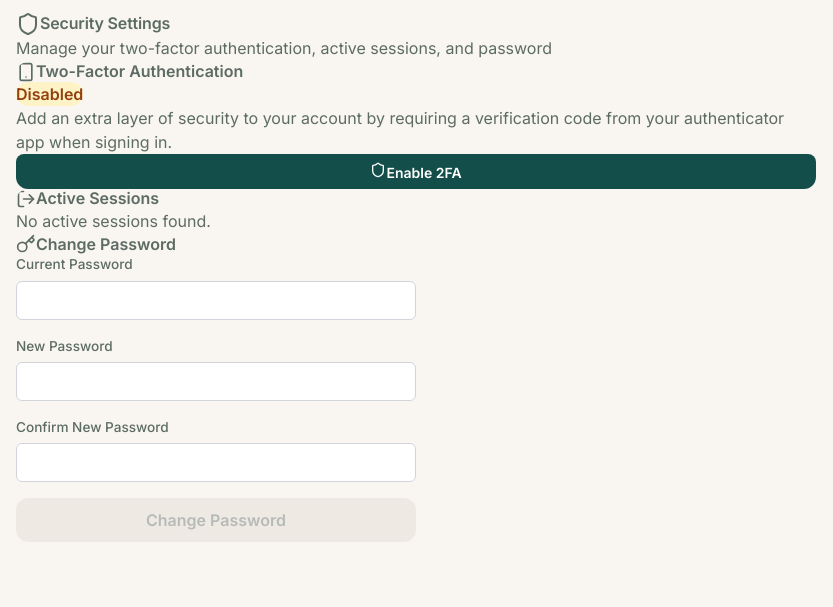
SecuritySettingsPage › shows password error when new passwords do not match
This screenshot has width=833, height=607.
Note: Type mismatching passwords
Type "Password1" into the password field labelled "New Password".
click(216, 382); type("Password1")  # box 16,362 -> 416,401
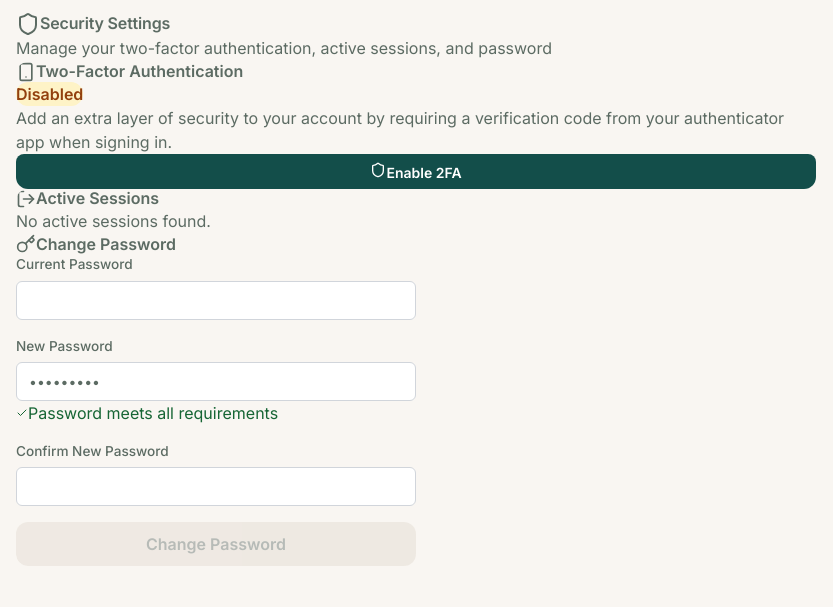
Type "Mismatch1" into the password field labelled "Confirm New Password".
click(216, 487); type("Mismatch1")  # box 16,467 -> 416,506
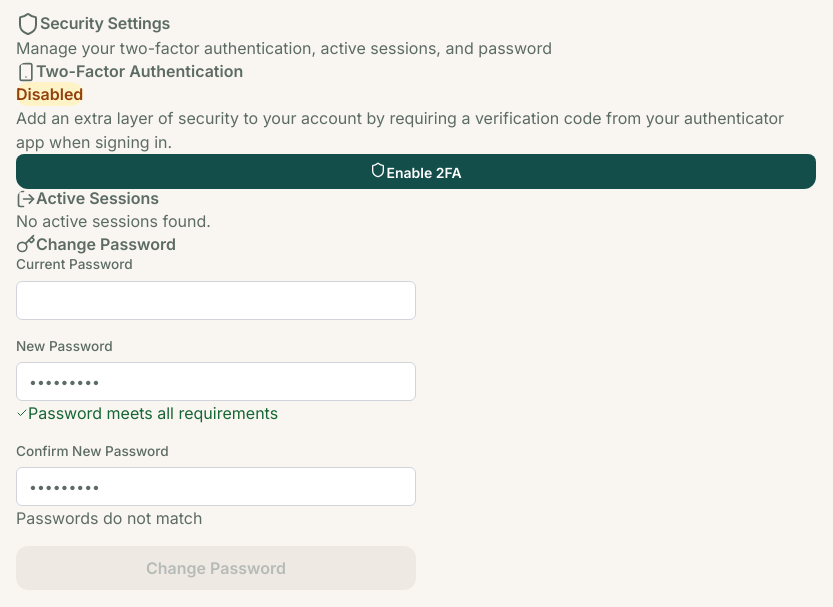
Result: the text "Passwords do not match" is shown at 16,508 -> 202,528
